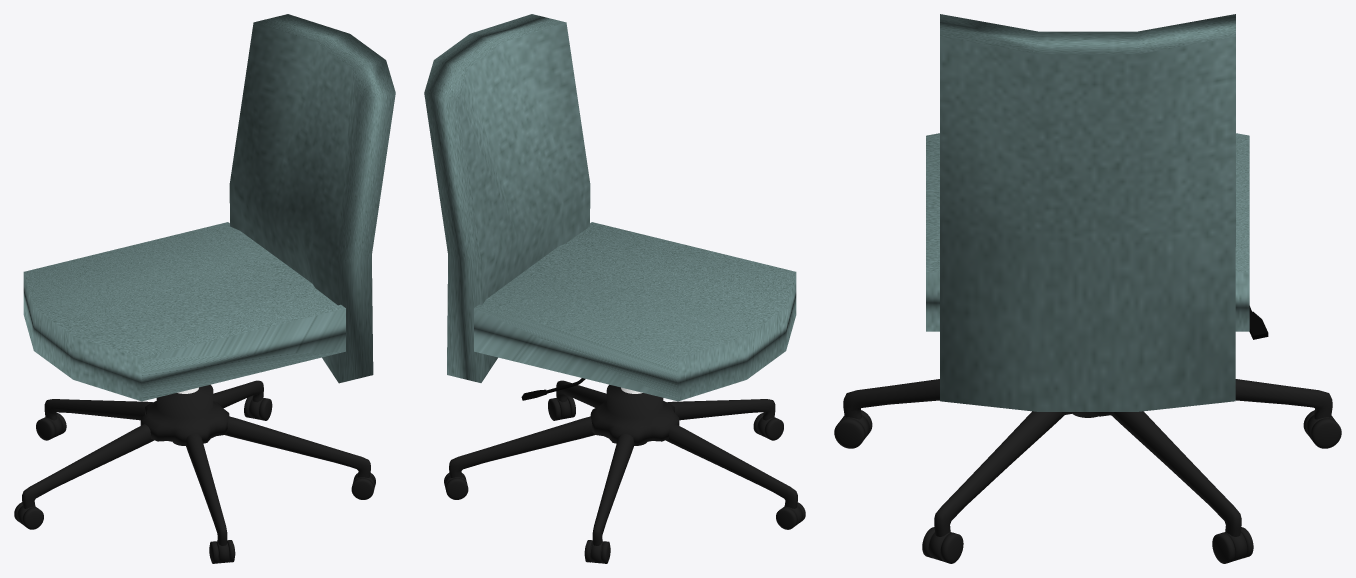
The model's file is officeChair.gltf.
3 views of the same model, side by side, from view 1: azimuth 30°, elevation 25°; view 2: azimuth 150°, elevation 25°; view 3: azimuth 270°, elevation 25° (orthographic). The views are drawn at different scales.
Parts seen in each view (by area): view 1: Chair, Cube.069, Cylinder.002; view 2: Chair, Cube.069, Cylinder.002; view 3: Cube.069, Cylinder.002, Chair.
Part boxes in pixels (x1,y1,x2,y2): Chair: [23, 222, 345, 401]; Cube.069: [229, 14, 395, 383]; Cylinder.002: [14, 380, 375, 563]; Chair: [474, 222, 796, 401]; Cube.069: [424, 14, 590, 382]; Cylinder.002: [444, 380, 805, 563]; Cube.069: [940, 14, 1235, 411]; Cylinder.002: [834, 379, 1341, 563]; Chair: [926, 133, 1249, 331].
Bounding box in the file's own units: 2.56 × 2.78 × 2.35.
Materials: 4 (1 with a texture image).
